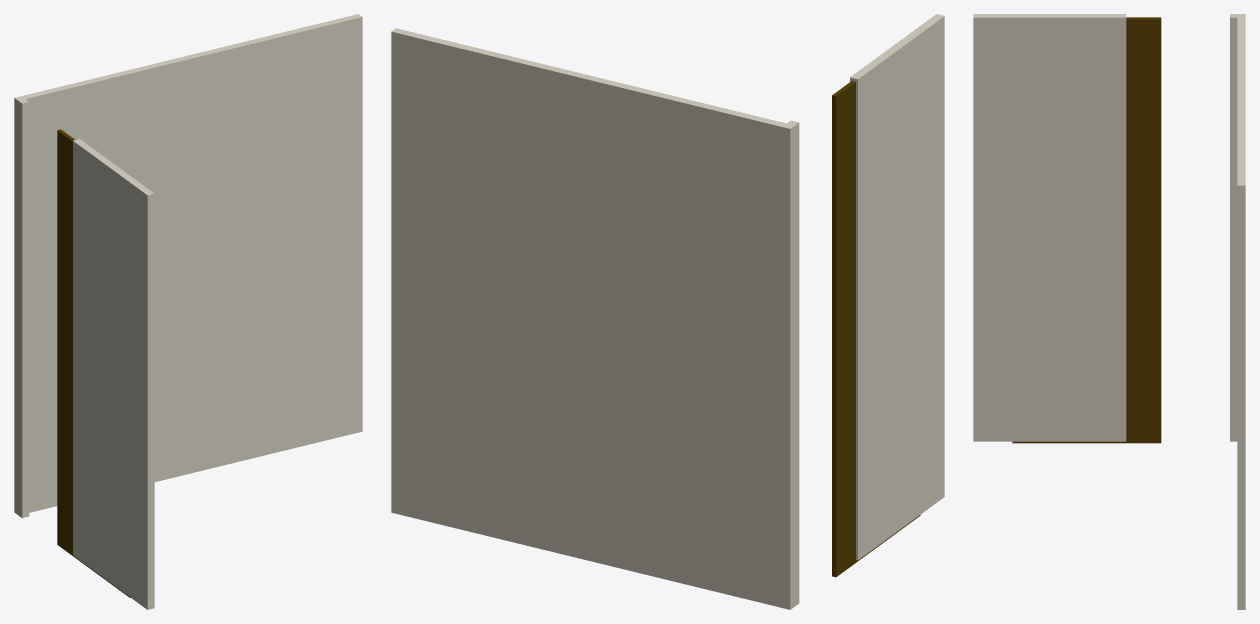
Rendered from Murs-salle-de-bain.fbx.
3 renders of one model, left to right at view 1: azimuth 30°, elevation 25°; view 2: azimuth 150°, elevation 25°; view 3: azimuth 270°, elevation 25°, orthographic. The views are drawn at different scales.
Visible parts, largest first — view 1: Mur salle de bain.001, Mur salle de bain.002, porte-coulissante; view 2: Mur salle de bain.001, Mur salle de bain.002, porte-coulissante; view 3: Mur salle de bain.002, porte-coulissante, Mur salle de bain.001.
Boxes of the visible parts, bbox=[...] form: Mur salle de bain.001: bbox=[18, 14, 362, 512]; Mur salle de bain.002: bbox=[14, 96, 154, 609]; porte-coulissante: bbox=[57, 129, 130, 597]; Mur salle de bain.001: bbox=[391, 28, 790, 608]; Mur salle de bain.002: bbox=[783, 14, 944, 609]; porte-coulissante: bbox=[832, 81, 920, 577]; Mur salle de bain.002: bbox=[973, 14, 1245, 441]; porte-coulissante: bbox=[1012, 17, 1161, 443]; Mur salle de bain.001: bbox=[1237, 15, 1245, 609].
Bounding box in the file's own units: 242 × 281 × 162.
